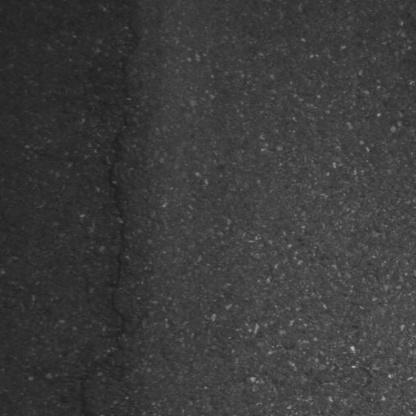Cracks: (104, 12, 145, 361), (76, 377, 109, 416)
